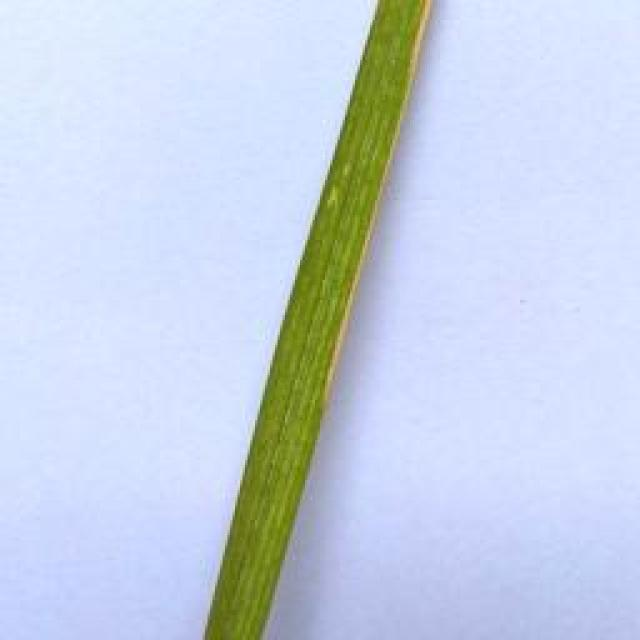Bacterial_Blight: (315, 257, 369, 420), (398, 0, 432, 116)
